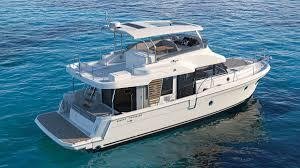Ship: (36, 22, 271, 151)
